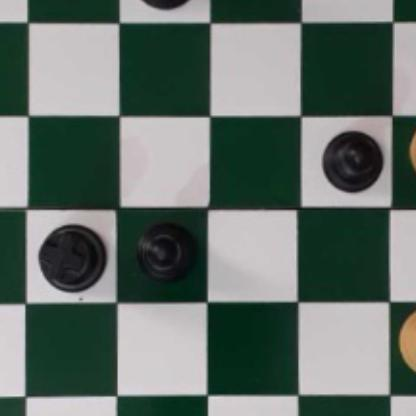black-king: (129, 0, 200, 10)
black-pawn: (321, 127, 387, 195), (133, 220, 200, 285)
black-rook: (37, 223, 110, 295)
white-bishop: (406, 114, 416, 189)
white-king: (395, 306, 416, 379)
